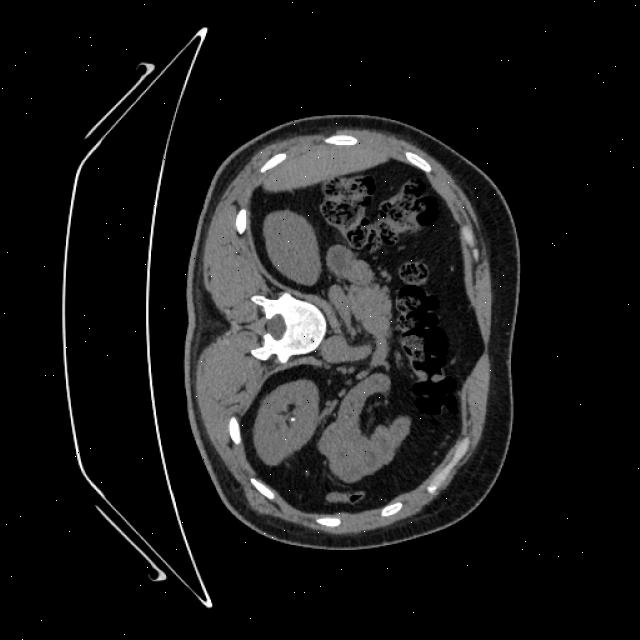kidneystone: (289, 416, 295, 421)
